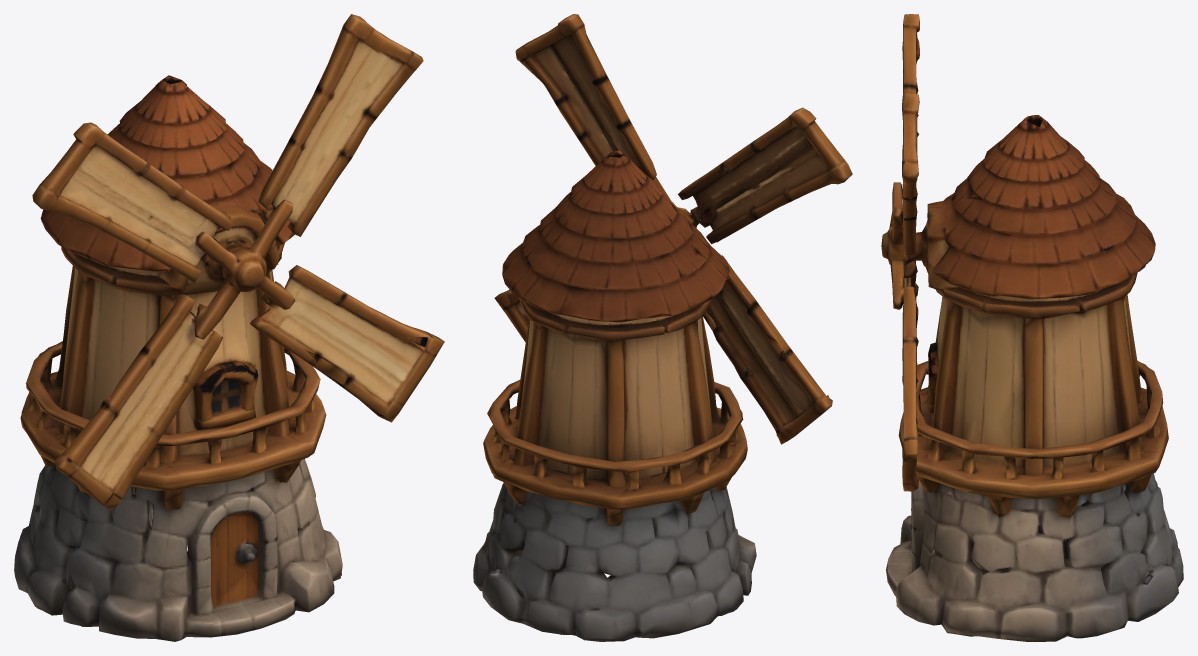
The model's file is windmill.glb.
3 views of the same model, side by side, from view 1: azimuth 30°, elevation 25°; view 2: azimuth 150°, elevation 25°; view 3: azimuth 270°, elevation 25° (orthographic). The views are drawn at different scales.
Parts seen in each view (by area): view 1: geometry_0; view 2: geometry_0; view 3: geometry_0.
Boxes of the visible parts, box(x1,y1,x2,y2) form: geometry_0: box(14, 14, 444, 641); geometry_0: box(473, 14, 852, 641); geometry_0: box(881, 14, 1183, 641).
Size of the model in its own units: 0.7344 by 1 by 0.5076.
Materials: 1 (1 with a texture image).
